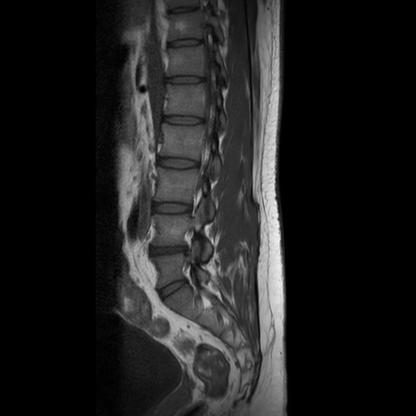Disc Bulgerotation: (150, 243, 189, 260)
